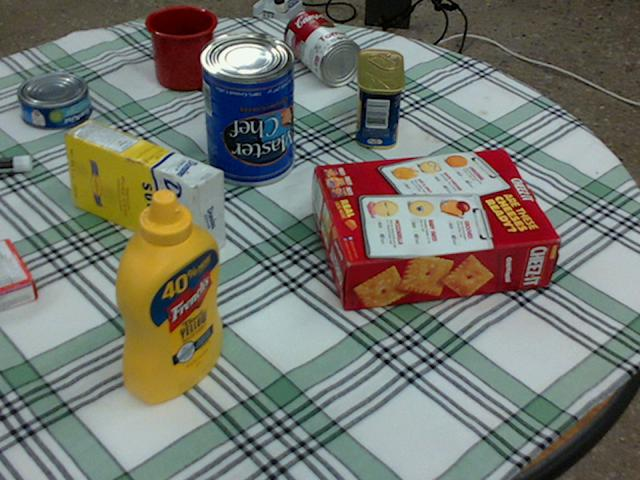cracker_box: (314, 149, 560, 311)
gelatin_box: (0, 238, 37, 310)
large_marker: (0, 155, 31, 172)
master_chef_can: (198, 32, 292, 185)
mug: (146, 5, 218, 89)
mustard_bottle: (113, 189, 221, 401)
potted_meat_can: (354, 49, 403, 148)
sugar_box: (63, 119, 223, 260)
tomato_soup_can: (284, 9, 361, 84)
tuna_fish_can: (18, 72, 91, 128)
